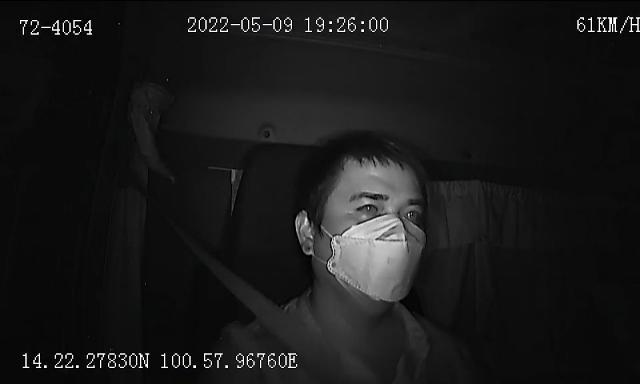SafeDriving: (349, 195, 386, 216), (398, 202, 424, 222)
Seatbelt: (184, 260, 370, 384)
